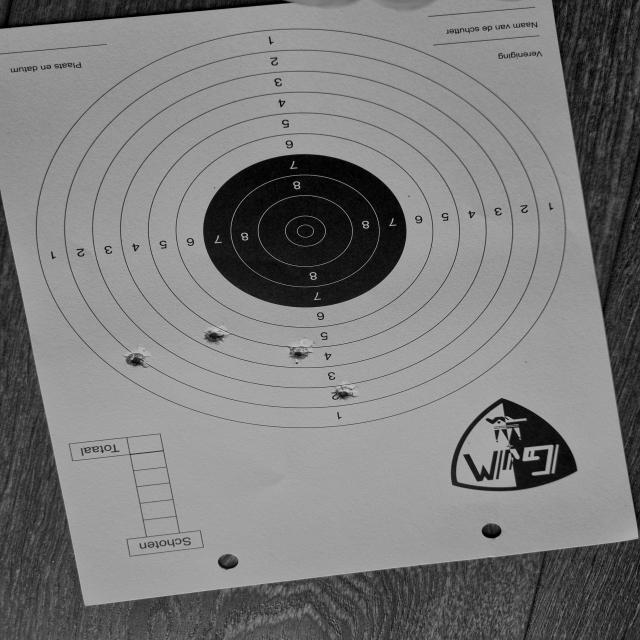2: (125, 348, 152, 370)
3: (333, 384, 357, 401)
5: (205, 326, 229, 346), (288, 345, 311, 364)
Target: (35, 28, 567, 429)
black_contour: (202, 153, 406, 308)
